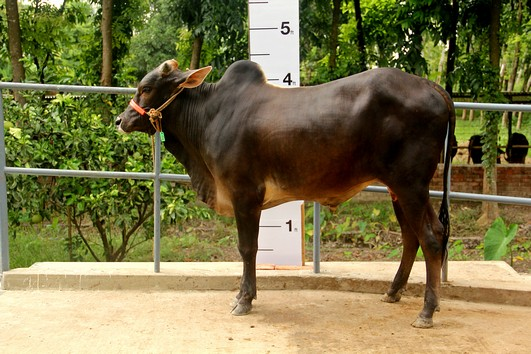cow: (109, 52, 465, 330)
